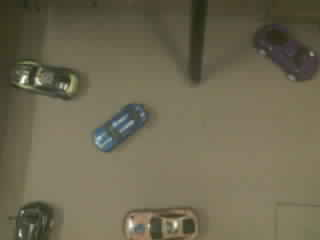Car: (255, 24, 318, 80), (10, 60, 78, 98), (94, 104, 147, 151), (125, 208, 198, 239), (17, 202, 52, 239)
